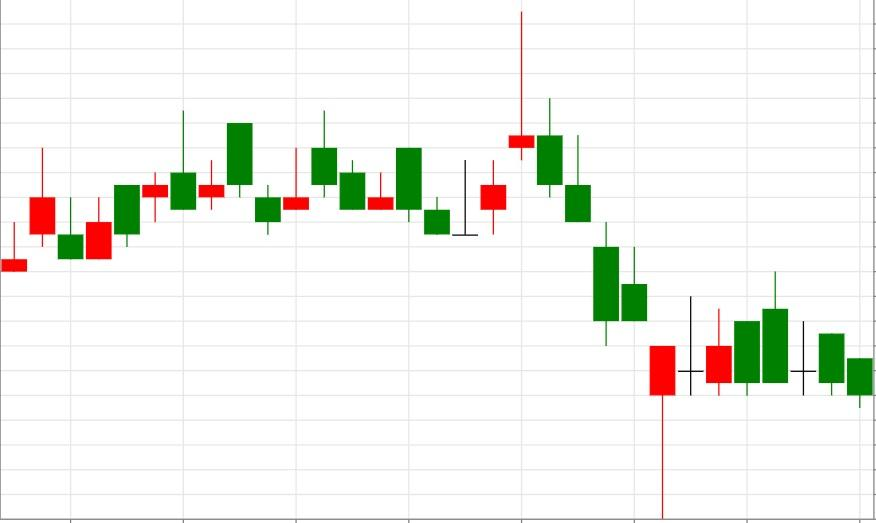three_black_crows_fall: (423, 11, 620, 347)
